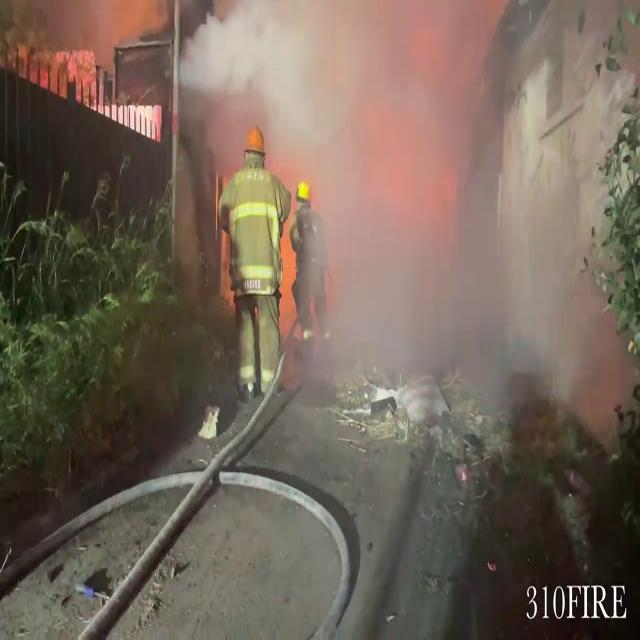Smoke: (191, 0, 637, 478)
